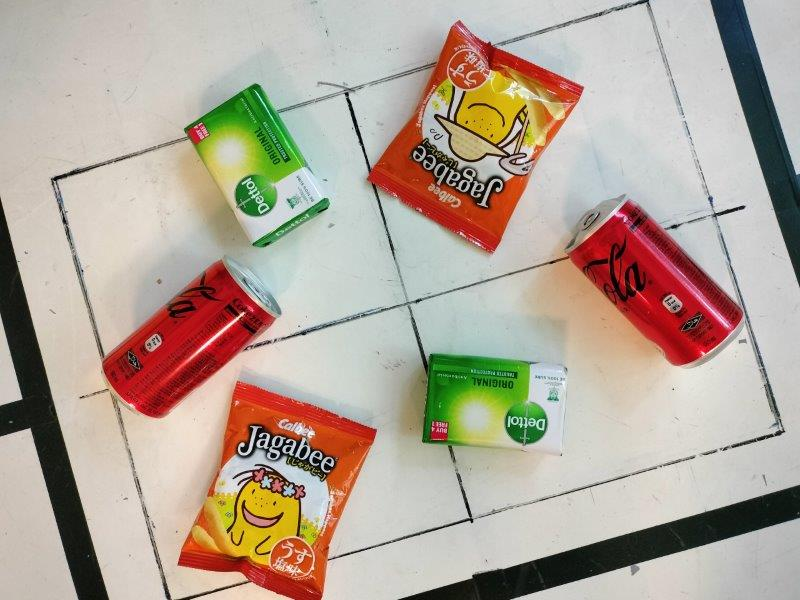Coke: (564, 195, 747, 369), (99, 256, 282, 419)
Dettol: (184, 85, 330, 247), (423, 354, 568, 459)
Jagabee: (368, 21, 585, 256), (179, 378, 377, 600)
